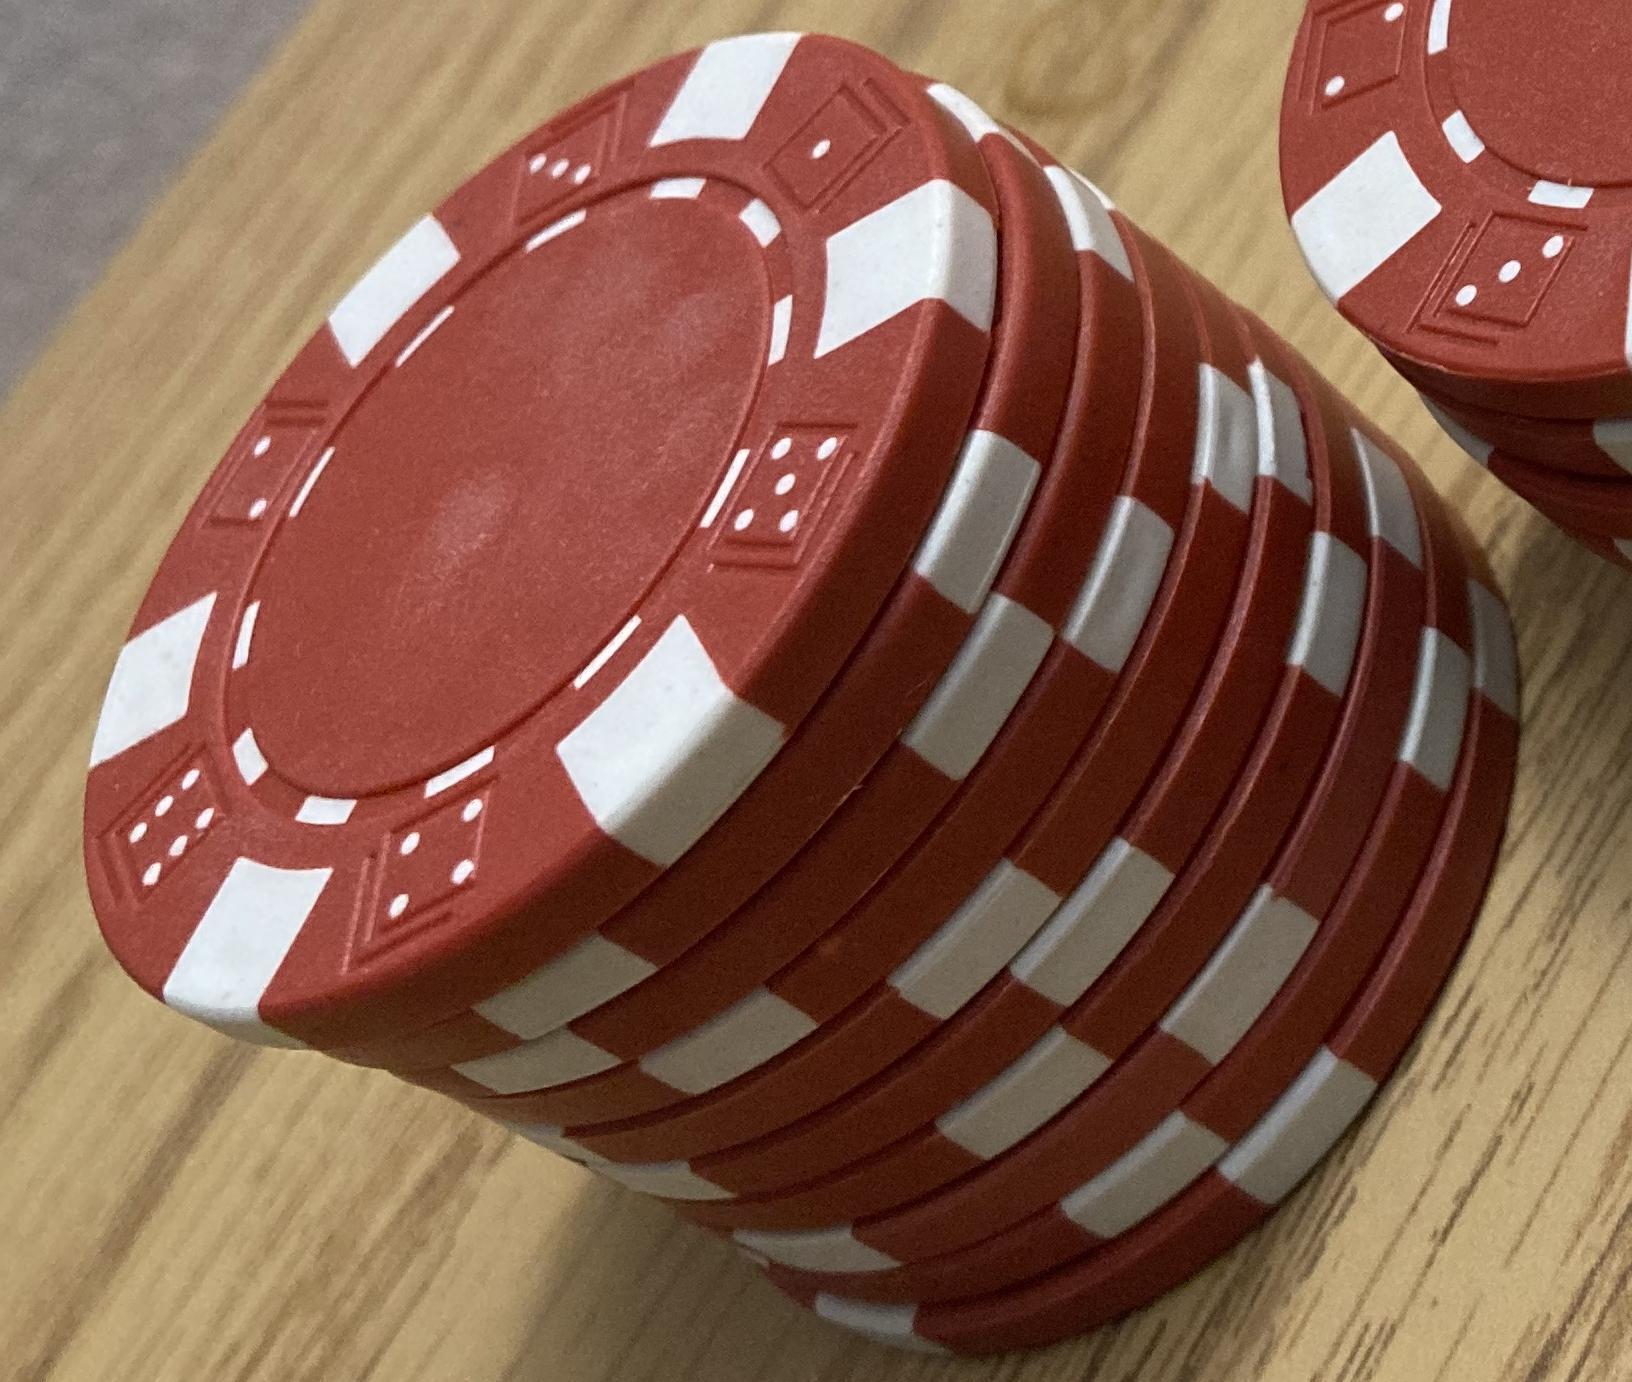Chip: (1, 1, 1632, 1382)
